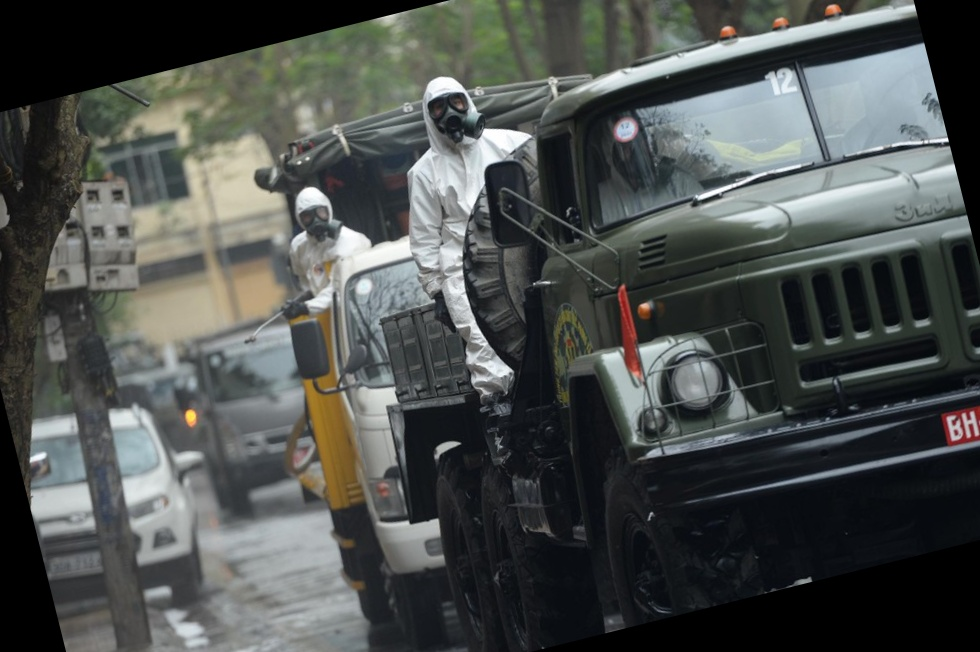plate: (47, 542, 118, 595), (937, 400, 979, 447)
